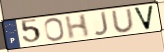5: (19, 18, 43, 46)
H: (64, 12, 91, 41)
J: (93, 10, 110, 37)
O: (43, 17, 66, 42)
U: (110, 8, 136, 34)
V: (132, 5, 156, 32)
